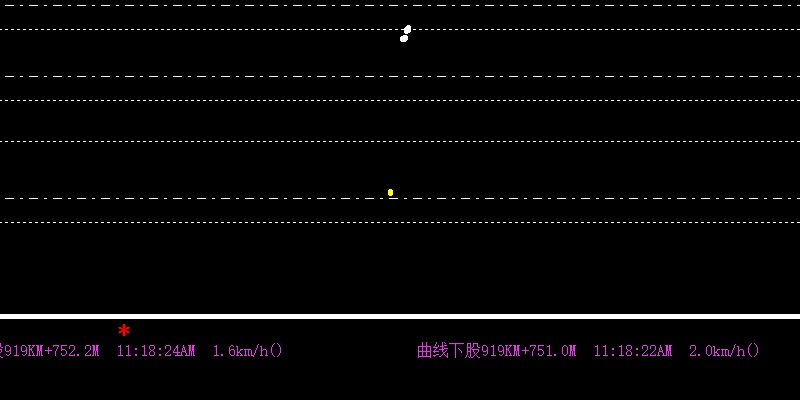face_1: (405, 21, 412, 34)
star: (116, 323, 133, 337)
